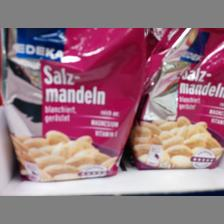Nuss: (0, 27, 148, 181), (132, 27, 224, 169)
